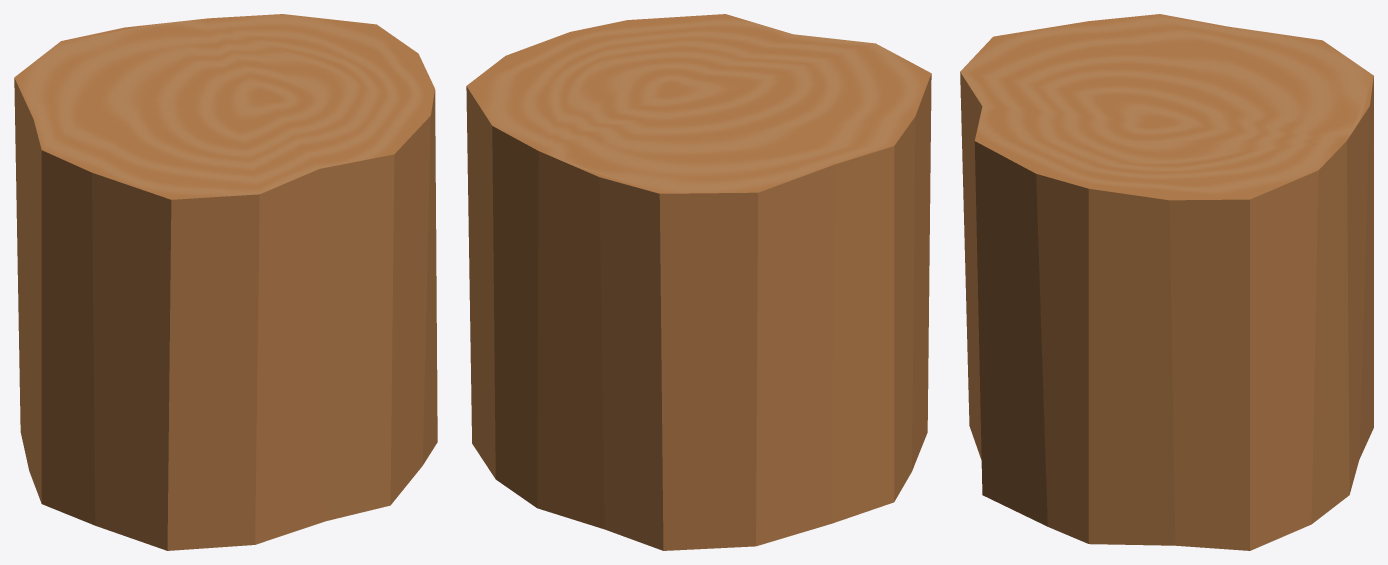
File: Choppa.fbx
3 views of the same model, side by side, from view 1: azimuth 30°, elevation 25°; view 2: azimuth 150°, elevation 25°; view 3: azimuth 270°, elevation 25° (orthographic).
Parts seen in each view (by area): view 1: Chopping Block; view 2: Chopping Block; view 3: Chopping Block.
Part boxes in pixels (bbox=[...]): Chopping Block: bbox=[14, 14, 437, 550]; Chopping Block: bbox=[466, 14, 931, 550]; Chopping Block: bbox=[960, 14, 1373, 550].
Size of the model in its own units: 298 by 264 by 279.
